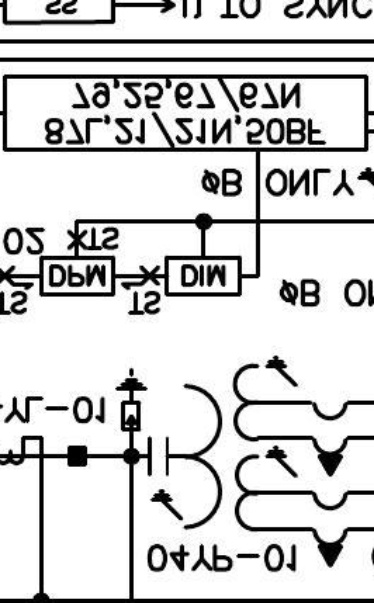115_cvt_1p: (147, 354, 351, 568)
115_la: (115, 367, 148, 432)
DIM: (165, 255, 242, 297)
DPM: (39, 255, 116, 297)
